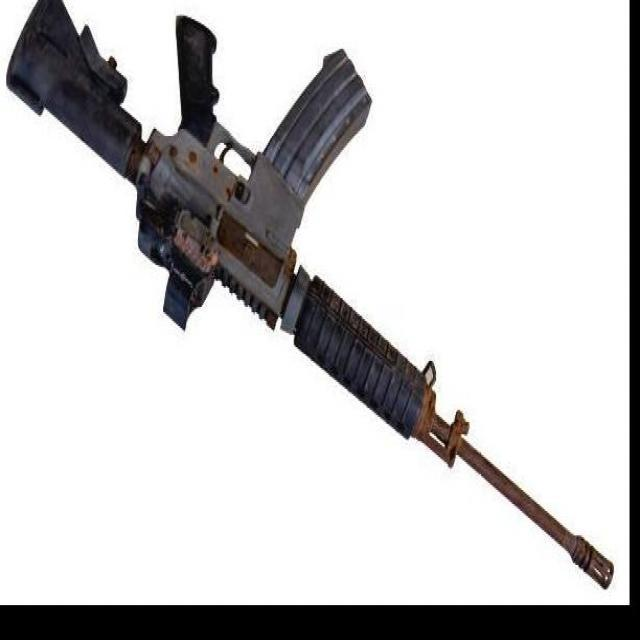weapon: (6, 0, 616, 594)
